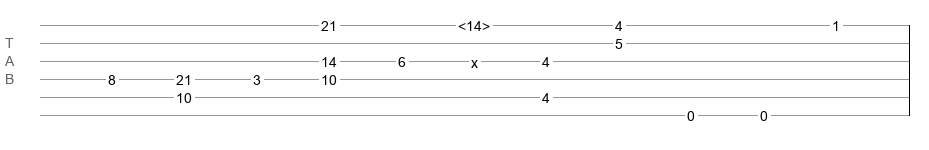0: (687, 108, 695, 118), (760, 108, 768, 118)
1: (832, 18, 840, 28)
10: (176, 90, 192, 100), (321, 72, 337, 82)
14: (321, 54, 337, 64)
21: (176, 72, 192, 82), (321, 18, 337, 28)
3: (253, 72, 261, 82)
4: (542, 90, 550, 100), (542, 54, 550, 64), (615, 18, 623, 28)
5: (615, 36, 623, 46)
6: (398, 54, 406, 64)
8: (108, 72, 116, 82)
harmonic: (458, 18, 490, 28)
x: (471, 55, 478, 63)
